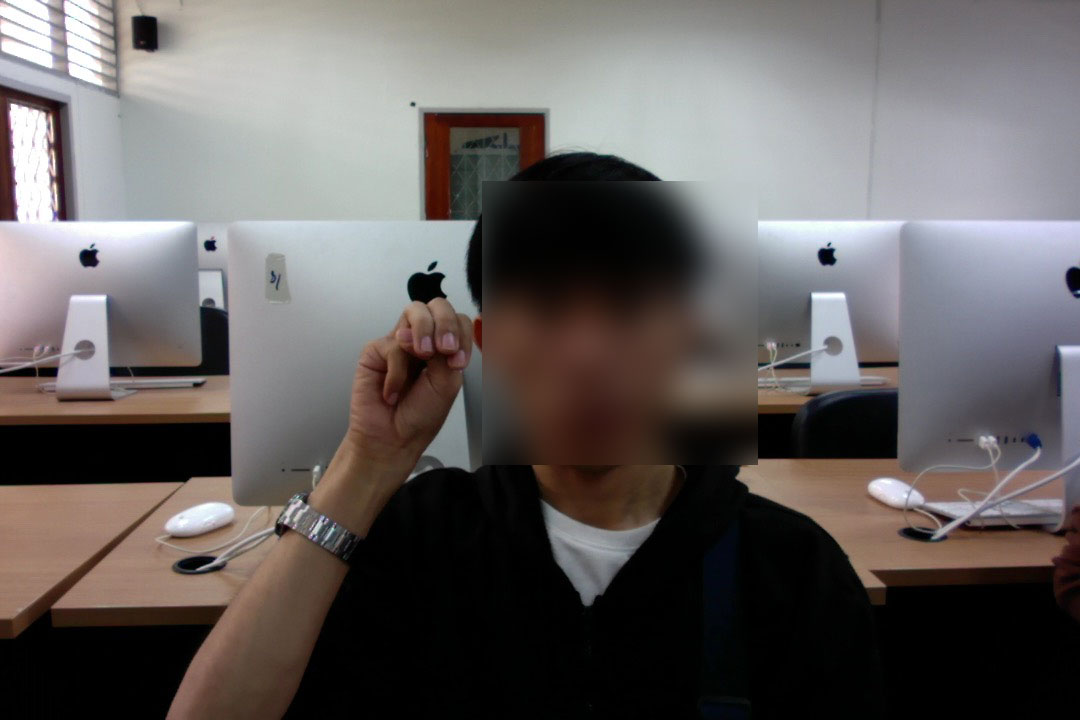mor: (348, 288, 477, 470)
